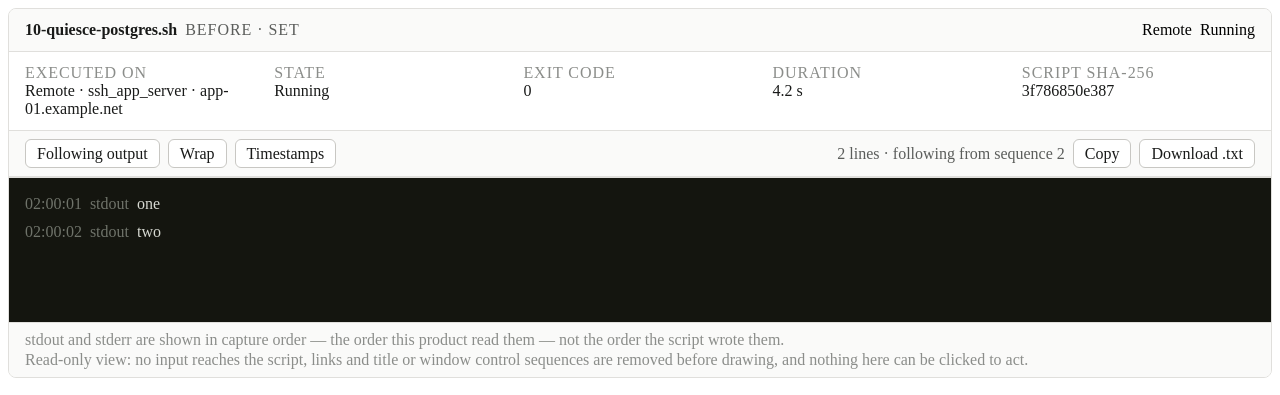
Test: following, pausing and reconnecting › resumes a paused follow from the last line drawn, with no gap and no repeat
The image size is (1280, 395).
Expected: the text "two" is shown, 137,218 -> 161,246
Click the button "Following output".
click(92, 154)  # box 25,139 -> 160,168
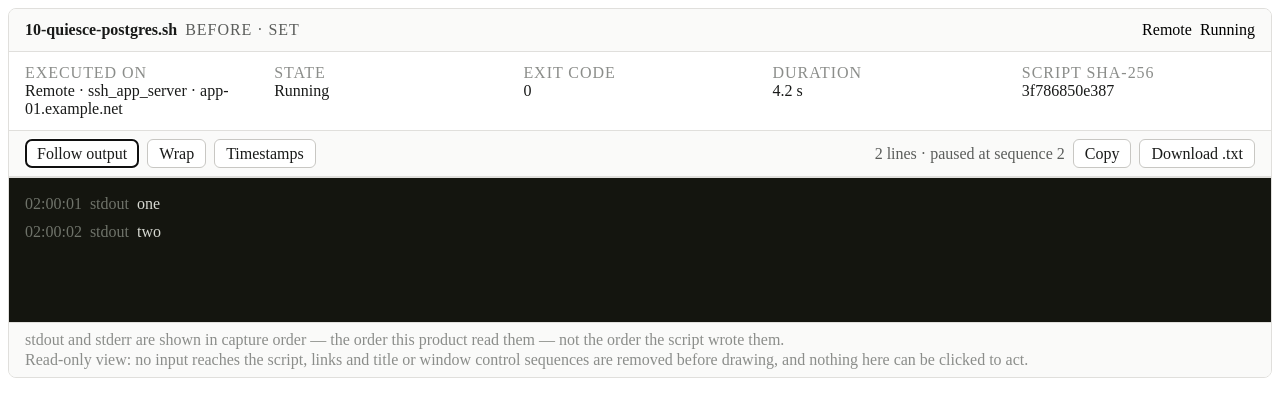
Click the button "Follow output".
click(82, 154)  # box 25,139 -> 139,168
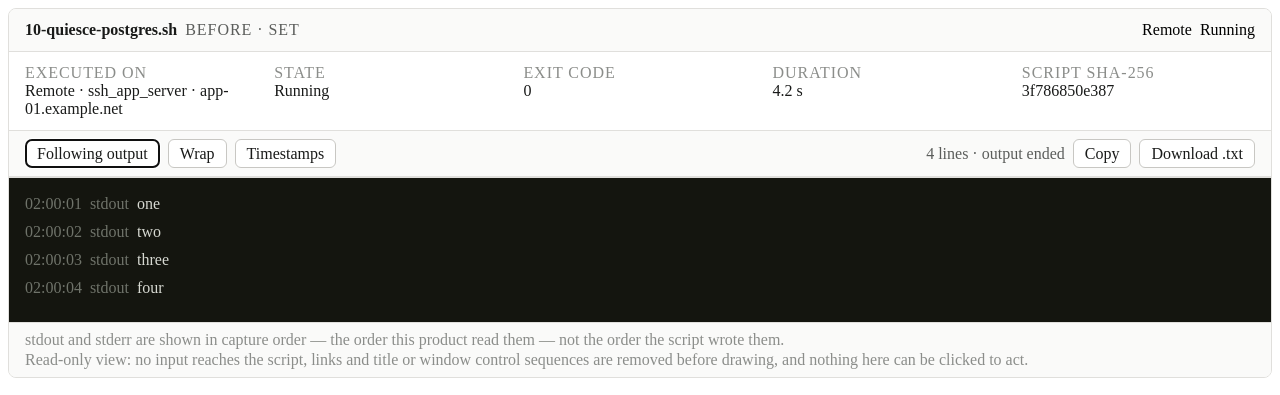
Now the text "four" is shown, box 137,274 -> 164,302
